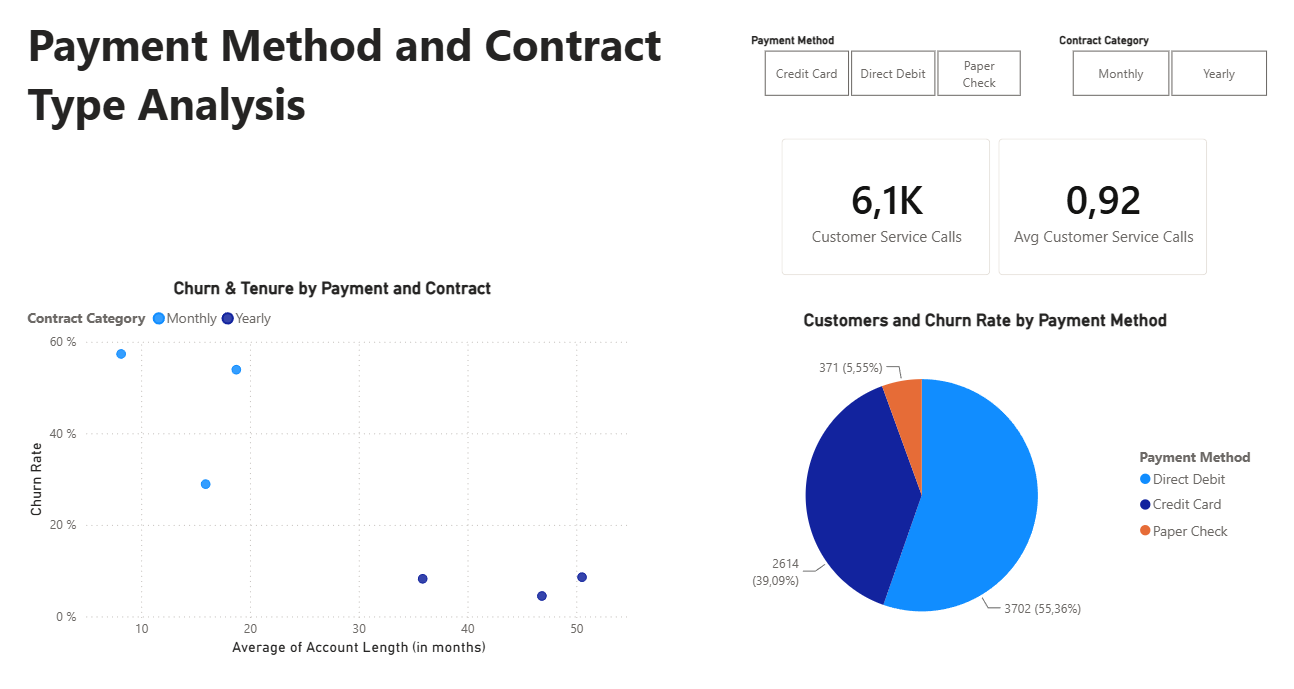

The page's visual inventory and layout, read from the dashboard file:
{"tool":"powerbi","page":{"name":"Payment and Contract","canvas":[1280,720],"ordinal":2},"visuals":[{"type":"cardVisual","fields":{"Data":["Sum(Databel - Data.Customer Service Calls)","Databel - Data.Avg Customer Service Calls"]},"box":[757.7,128.4,449.4,167.3],"z":0},{"type":"scatterChart","title":"Churn & Tenure by Payment and Contract","fields":{"X":["Avg(Databel - Data.Account Length (in months))"],"Category":["Databel - Data.Payment Method"],"Y":["Databel - Data.Churn Rate"],"Series":["Databel - Data.Contract Category"]},"box":[36,281.1,604,372.5],"z":1000},{"type":"pieChart","title":"Customers and Churn Rate by Payment Method","fields":{"Category":["Databel - Data.Payment Method"],"Y":["Databel - Data.Number of Customers"]},"box":[694.5,312.2,557.3,341.4],"z":2000},{"type":"slicer","fields":{"Values":["Databel - Data.Payment Method"]},"box":[732.8,39,299.4,71.7],"z":3000},{"type":"slicer","fields":{"Values":["Databel - Data.Contract Category"]},"box":[1032.2,39,239.3,71.7],"z":4000},{"type":"textbox","box":[35.8,19,638.9,125.5],"z":5000}]}

Visuals, with their boxes on the page's 1280x720 design canvas (x1, y1, x2, y2). These are canvas units, not pixel positions in the 1294x689 screenshot, which may show the page scaled, cropped or inside an application window:
cardVisual - Sum(Databel - Data.Customer Service Calls) x Databel - Data.Avg Customer Service Calls: locate(758, 128, 1207, 296)
"Churn & Tenure by Payment and Contract" scatterChart: locate(36, 281, 640, 654)
"Customers and Churn Rate by Payment Method" pieChart: locate(694, 312, 1252, 654)
slicer - Databel - Data.Payment Method: locate(733, 39, 1032, 111)
slicer - Databel - Data.Contract Category: locate(1032, 39, 1272, 111)
textbox: locate(36, 19, 675, 144)
